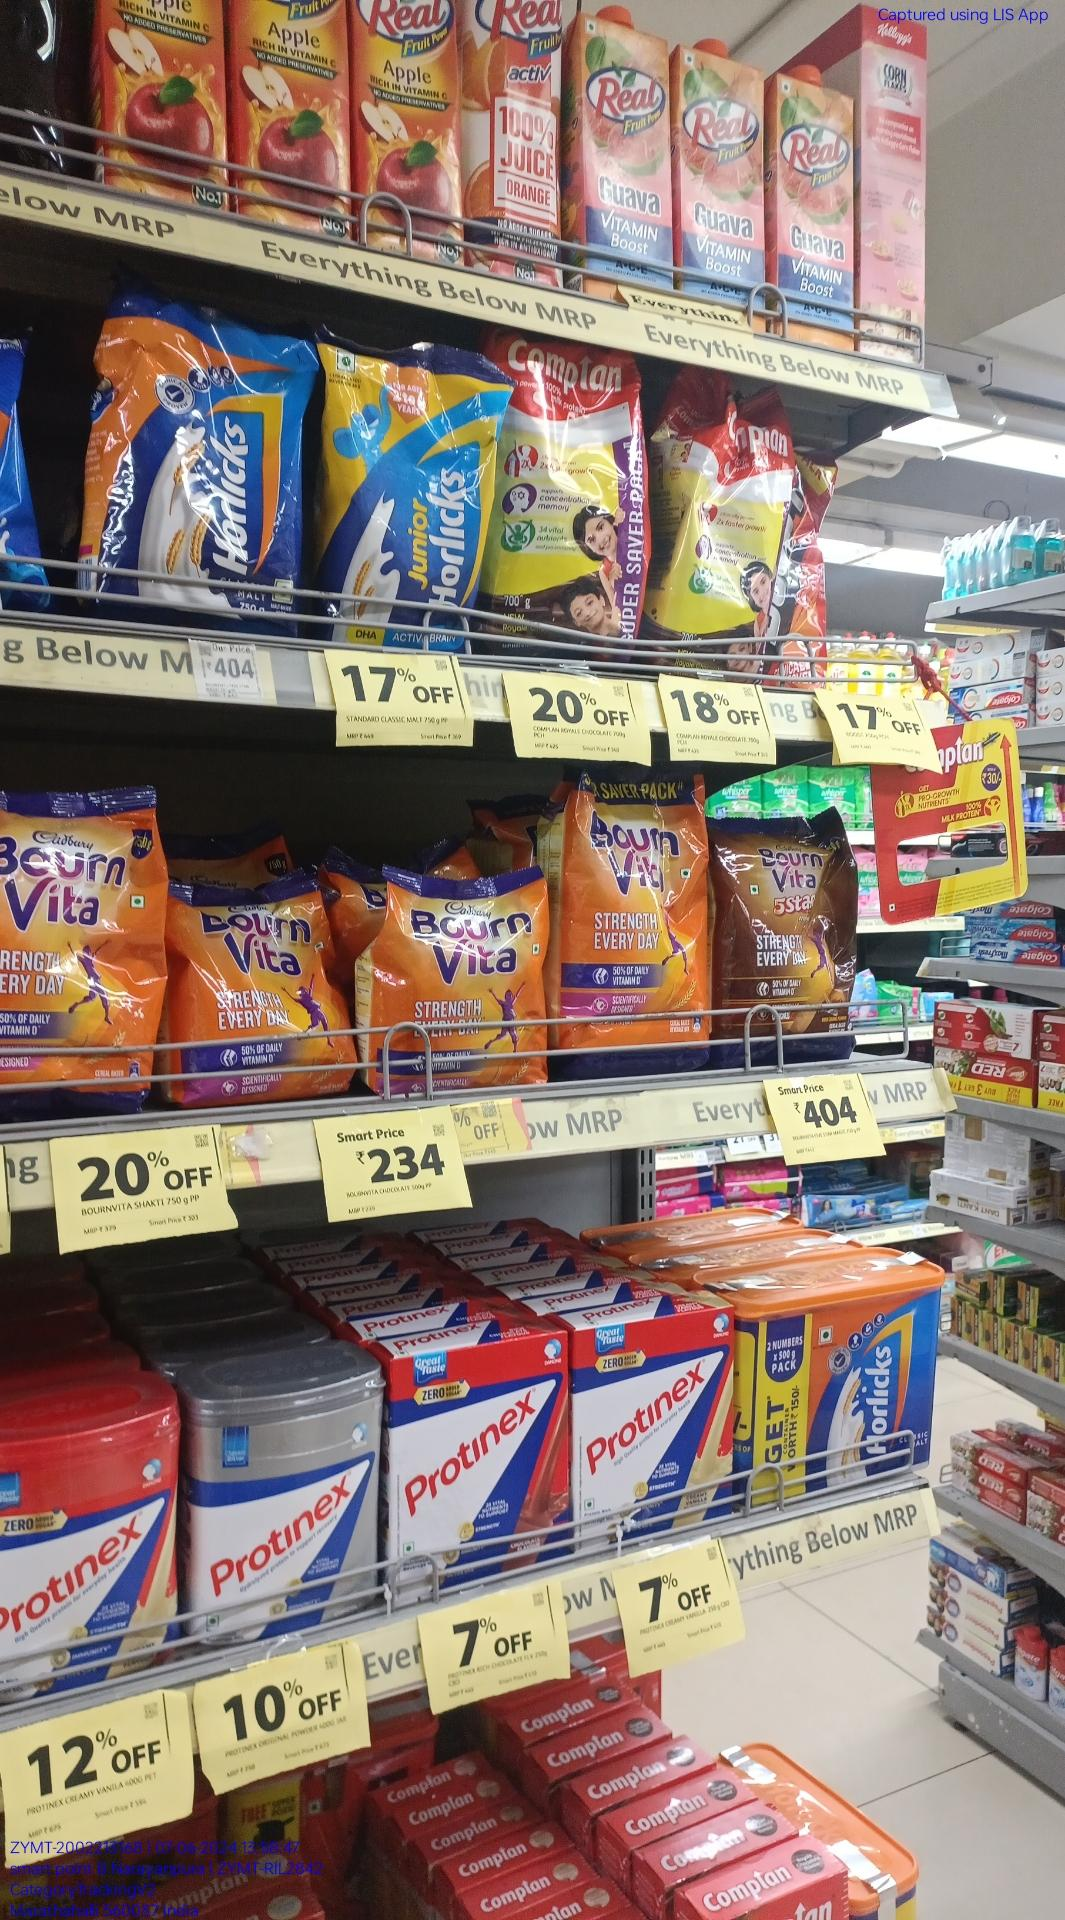BOURN_VITA_1_KG_POUCH: (565, 771, 712, 1077)
BOURN_VITA_500_G_POUCH: (180, 877, 348, 1116), (374, 868, 548, 1094)
BOURN_VITA_750_G_POUCH: (0, 778, 161, 1106)
BOURN_VITA_FIVE_STAR_MAGIC_750_G_POUCH: (716, 825, 859, 1068)
COMPLAN_RC_POUCH_700_GMS_12: (500, 338, 647, 665), (664, 375, 779, 681)
HORLICK_CLASSIC_MALT_750_G_POUCH: (101, 306, 306, 630)
HORLICK_MALT_1_KG_CONTAINER: (741, 1287, 951, 1513)
PROTINEX_ORIGINAL_400_G_JAR: (195, 1385, 382, 1639)
PROTINEX_VANILLA_400_G_JAR: (0, 1402, 188, 1702)
